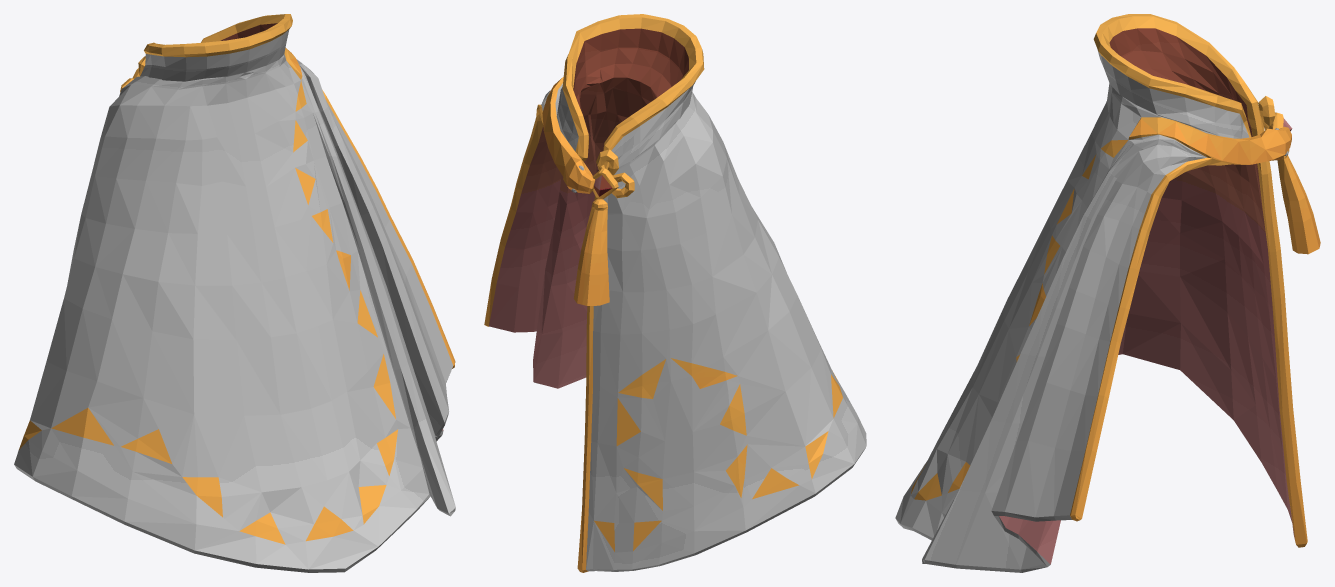
File: CharSkyKid_Wing_FortuneSnake.glb
The picture shows the model from 3 angles, left to right: view 1: azimuth 30°, elevation 25°; view 2: azimuth 150°, elevation 25°; view 3: azimuth 270°, elevation 25°; orthographic projection. The views are drawn at different scales.
Visible parts, largest first — view 1: CharSkyKid_Wing_FortuneSnake; view 2: CharSkyKid_Wing_FortuneSnake; view 3: CharSkyKid_Wing_FortuneSnake.
Part boxes in pixels (left/top/right/bottom): CharSkyKid_Wing_FortuneSnake: left=14, top=14, right=455, bottom=572; CharSkyKid_Wing_FortuneSnake: left=484, top=14, right=866, bottom=572; CharSkyKid_Wing_FortuneSnake: left=895, top=14, right=1320, bottom=572.
Bounding box in the file's own units: 7.99 × 9.42 × 6.97.
Materials: 1 (1 with a texture image).
